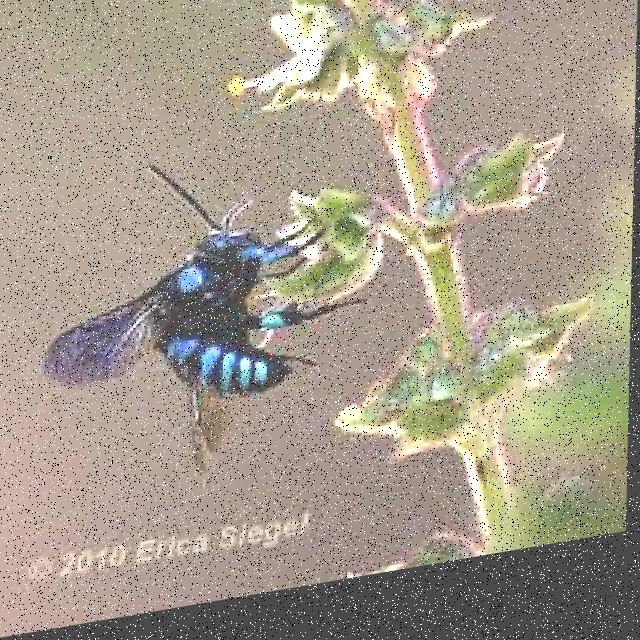Thyreus: (43, 135, 352, 436)
